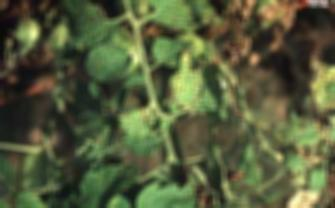Tomato Septoria leaf spot: (114, 103, 170, 163), (66, 106, 126, 157), (168, 50, 207, 112), (82, 41, 138, 82), (144, 0, 196, 31), (148, 34, 190, 68)
